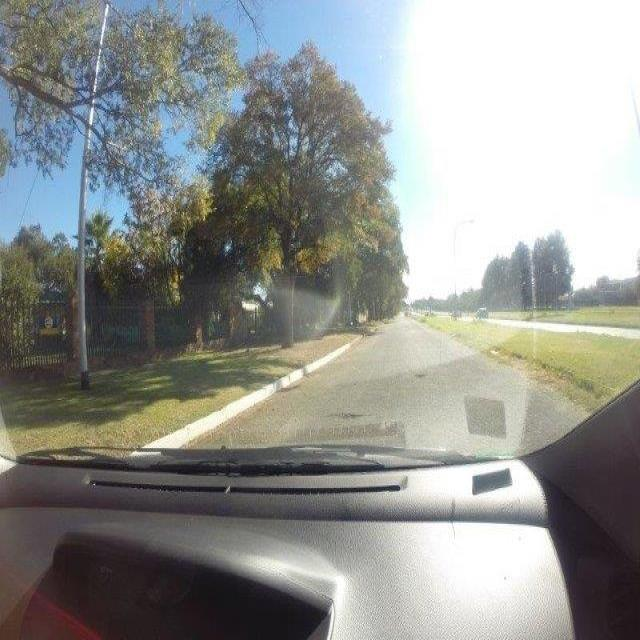lubang: (328, 404, 364, 425), (406, 368, 432, 380)
